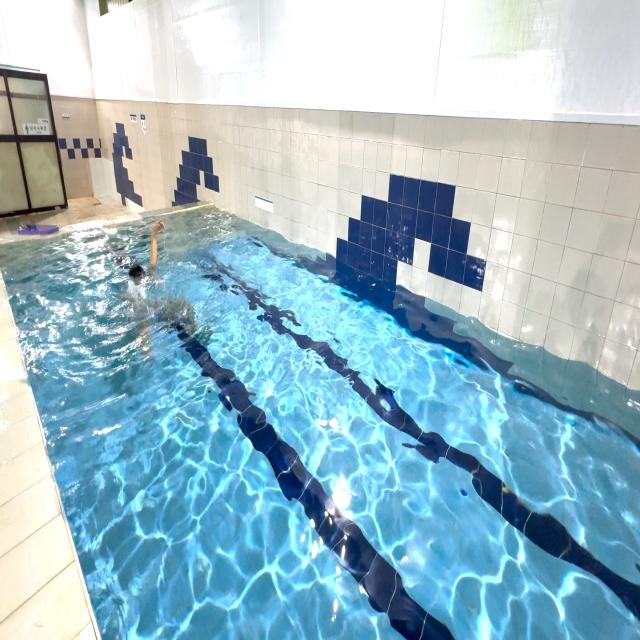Drowning: (93, 210, 209, 376)
